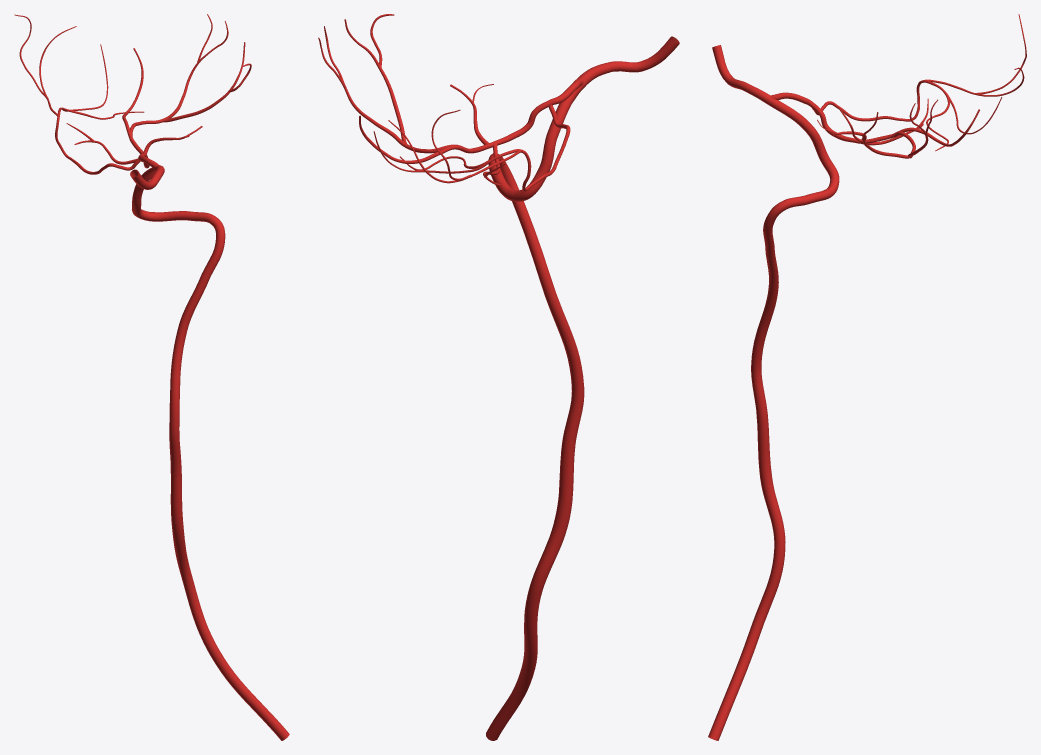
The model's file is circulatorio-vertebral-artery-l.glb.
The picture shows the model from 3 angles, left to right: view 1: azimuth 30°, elevation 25°; view 2: azimuth 150°, elevation 25°; view 3: azimuth 270°, elevation 25°; orthographic projection. The views are drawn at different scales.
Parts seen in each view (by area): view 1: Vertebral artery.l, Posterior inferior cerebellar artery.l; view 2: Vertebral artery.l, Posterior inferior cerebellar artery.l; view 3: Vertebral artery.l, Posterior inferior cerebellar artery.l.
Part boxes in pixels (x1=…): Vertebral artery.l: x1=130, y1=165, x2=289, y2=740; Posterior inferior cerebellar artery.l: x1=14, y1=14, x2=251, y2=174; Vertebral artery.l: x1=486, y1=36, x2=679, y2=740; Posterior inferior cerebellar artery.l: x1=318, y1=14, x2=583, y2=191; Vertebral artery.l: x1=708, y1=45, x2=839, y2=740; Posterior inferior cerebellar artery.l: x1=770, y1=14, x2=1026, y2=158.
Size of the model in its own units: 0.0529 by 0.17 by 0.0737.
